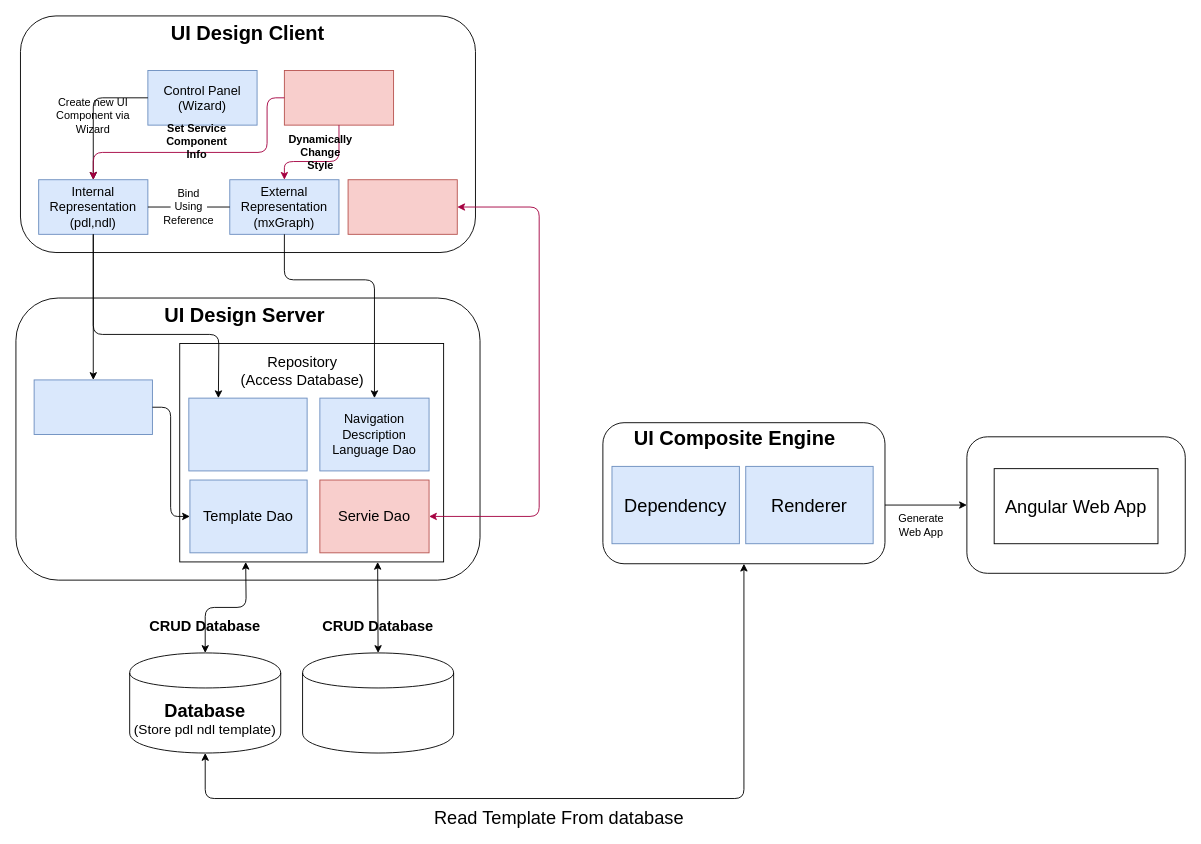
Image size: 1201x844. Some labels were removed from this diagram. The shapes that lost their labels are listed below. From the top down, each one's centre as x and y in pixels, then its label:
At [338,97]: "App Setting".
At [402,206]: "Code Editor".
At [92,407]: "Template Engine (output ts,html,css file, using FreeMarker)".
At [247,434]: "Page Description Language Dao".
At [378,702]: "Database (Store Service Component Source code)".
